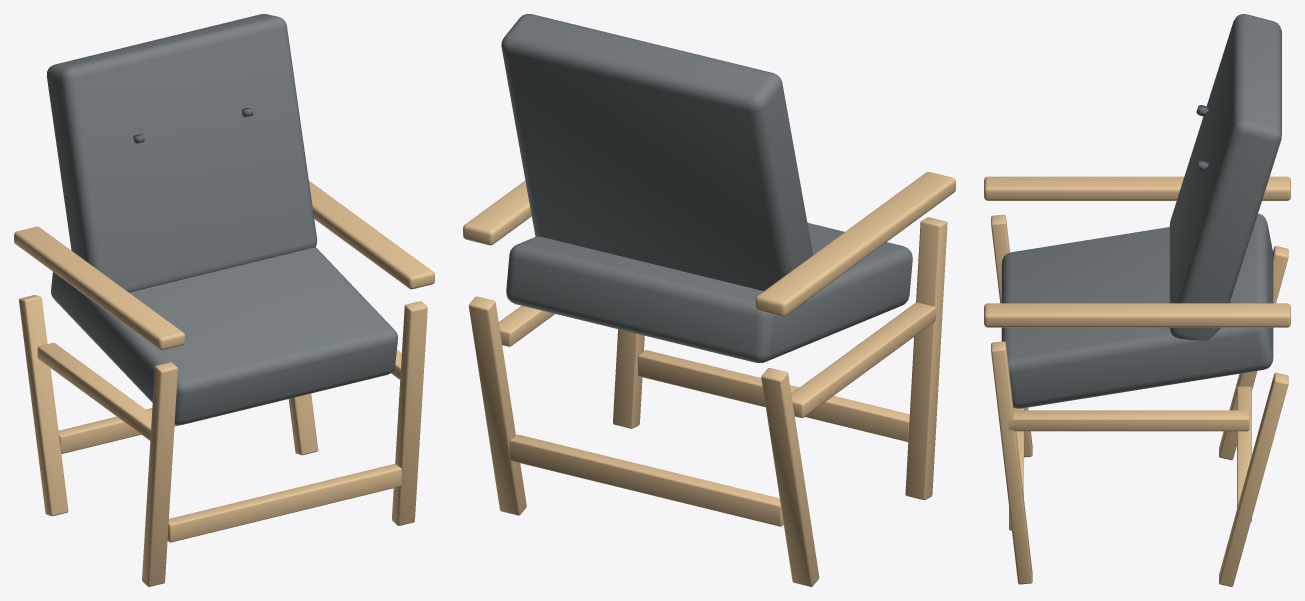
File: seating.lounge-chair.glb
The picture shows the model from 3 angles, left to right: view 1: azimuth 30°, elevation 25°; view 2: azimuth 150°, elevation 25°; view 3: azimuth 270°, elevation 25°; orthographic projection. The views are drawn at different scales.
Parts seen in each view (by area): view 1: seating.lounge-chair; view 2: seating.lounge-chair; view 3: seating.lounge-chair.
Boxes of the visible parts, box(x1,y1,x2,y2) form: seating.lounge-chair: box(14, 14, 434, 586); seating.lounge-chair: box(463, 14, 955, 586); seating.lounge-chair: box(984, 14, 1290, 586).
Bounding box in the file's own units: 0.7125 × 1.07 × 0.66.
